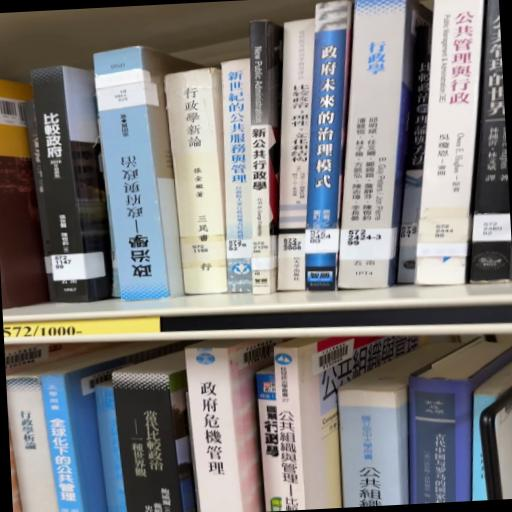reverse: (95, 47, 201, 301)
